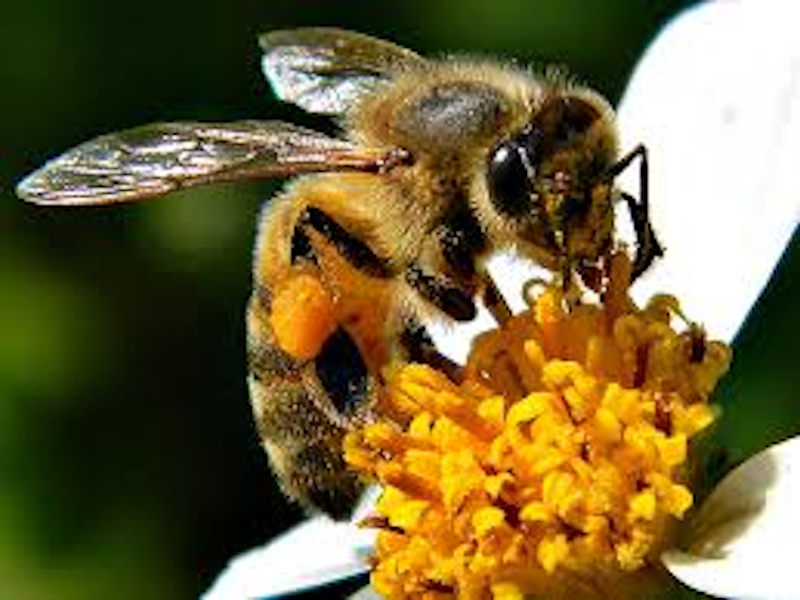abeja: (45, 20, 668, 545)
